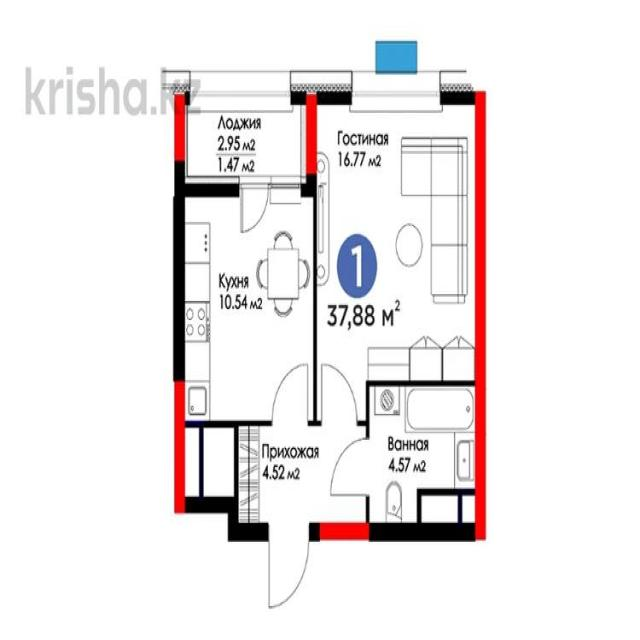balcony: (178, 96, 312, 189)
bathroom: (368, 383, 482, 535)
hallway: (237, 422, 369, 535)
kitchen: (177, 188, 315, 422)
living_room: (316, 98, 477, 384)
